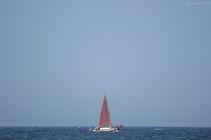fanchuan: (91, 92, 120, 133)
